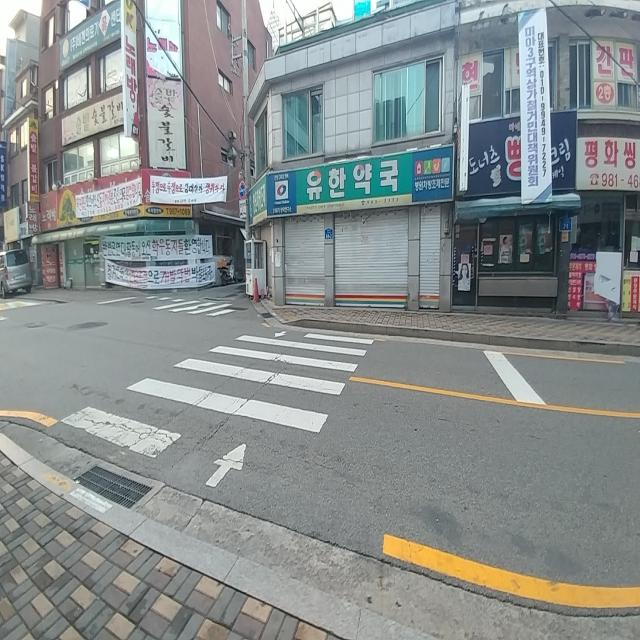횡단보도: (62, 326, 373, 488), (139, 286, 245, 322)
